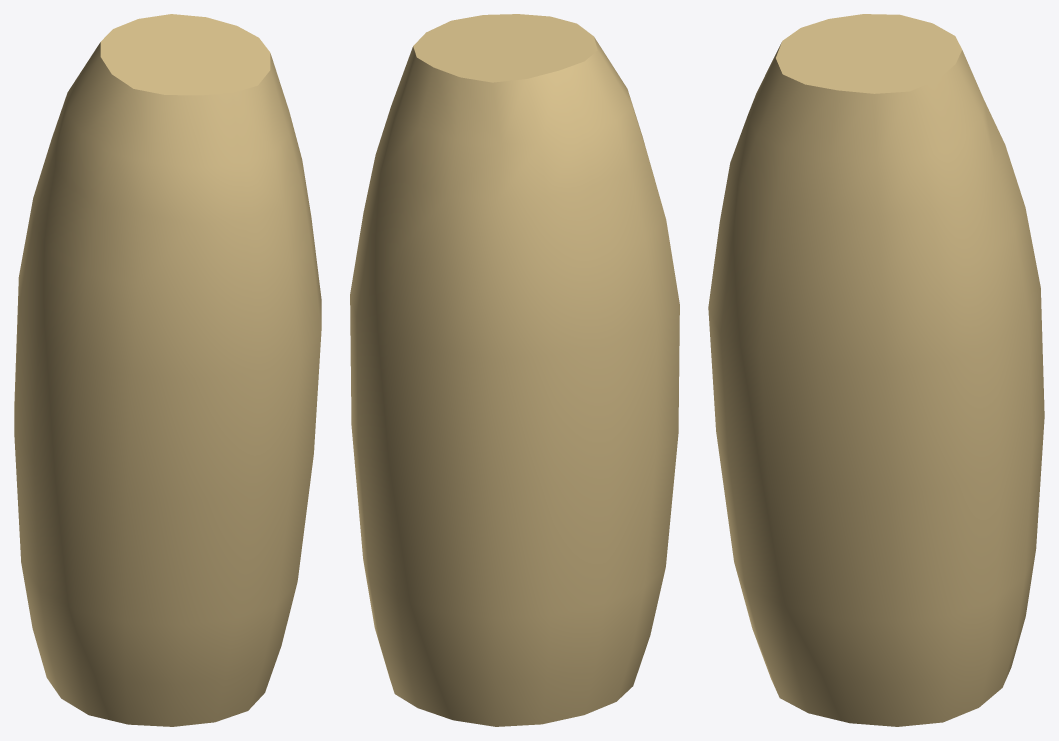
Rendered from cake_leg.fbx.
3 views of the same model, side by side, from view 1: azimuth 30°, elevation 25°; view 2: azimuth 150°, elevation 25°; view 3: azimuth 270°, elevation 25° (orthographic).
Parts seen in each view (by area): view 1: polySurface8; view 2: polySurface8; view 3: polySurface8.
Boxes of the visible parts, x1,y1,x2,y2 form: polySurface8: (14,14,321,726); polySurface8: (350,14,679,726); polySurface8: (708,14,1044,726).
Bounding box in the file's own units: 0.568 × 1.25 × 0.5955.
